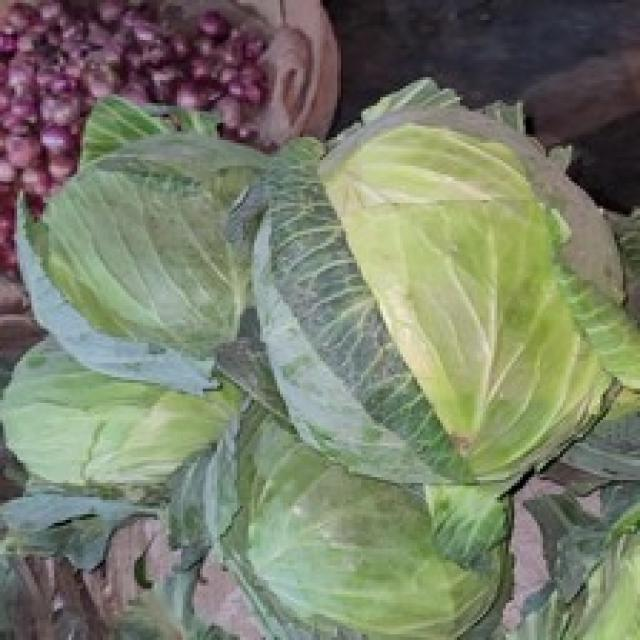Cabbage: (0, 74, 637, 637)
